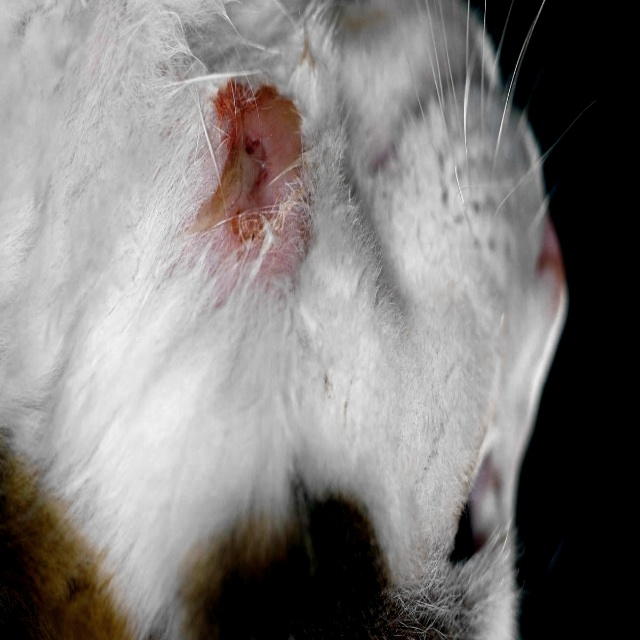lump_and_bump: (217, 77, 310, 273)
